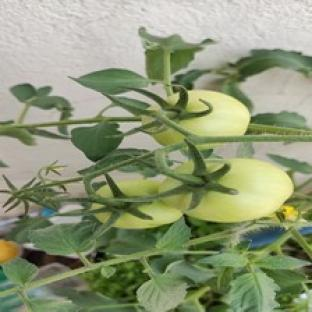Tomato: (162, 159, 293, 222), (177, 90, 250, 136), (113, 201, 182, 228), (0, 240, 20, 264)
